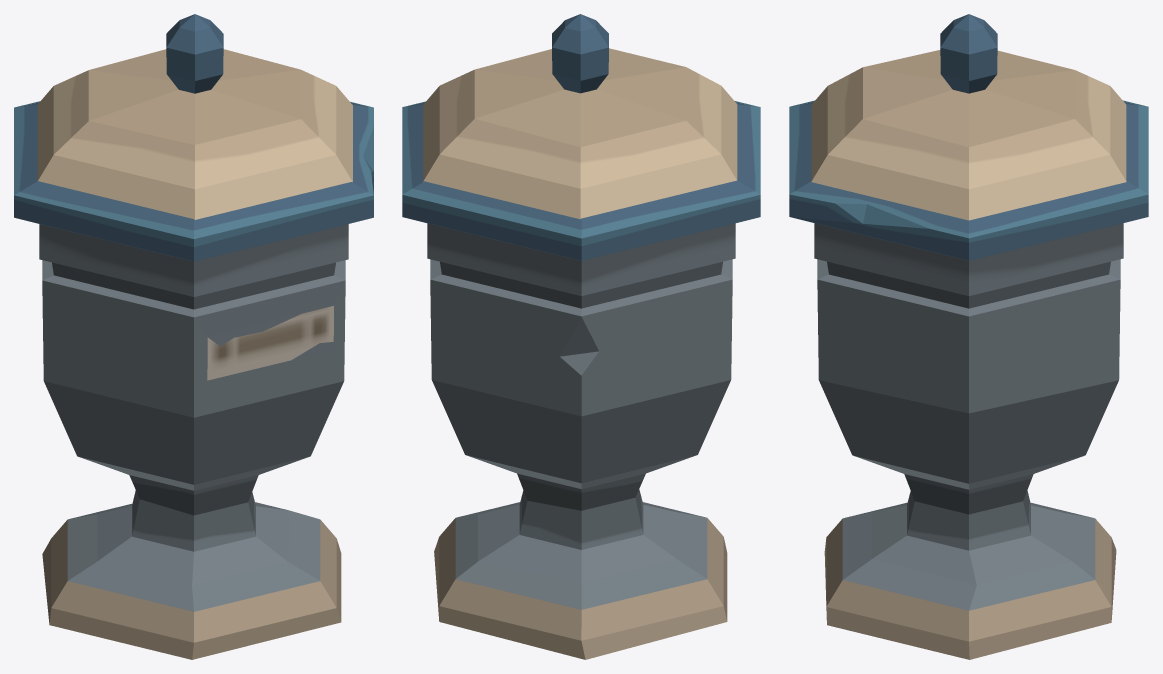
The model's file is SM_Prop_Urn_03.fbx.
3 renders of one model, left to right at view 1: azimuth 30°, elevation 25°; view 2: azimuth 150°, elevation 25°; view 3: azimuth 270°, elevation 25°, orthographic.
Visible parts, largest first — view 1: SM_Prop_Urn_03; view 2: SM_Prop_Urn_03; view 3: SM_Prop_Urn_03.
Boxes of the visible parts, bbox=[...] form: SM_Prop_Urn_03: bbox=[14, 14, 373, 659]; SM_Prop_Urn_03: bbox=[402, 14, 760, 659]; SM_Prop_Urn_03: bbox=[789, 14, 1148, 659].
Bounding box in the file's own units: 28.3 × 43.2 × 24.51.
Materials: 1 (1 with a texture image).
